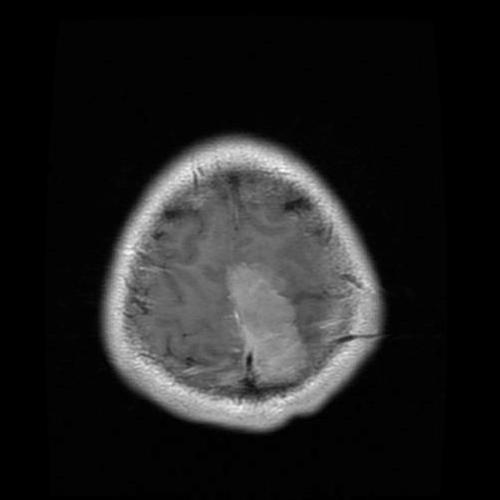Tumour-Pituitary: (214, 261, 331, 415)
